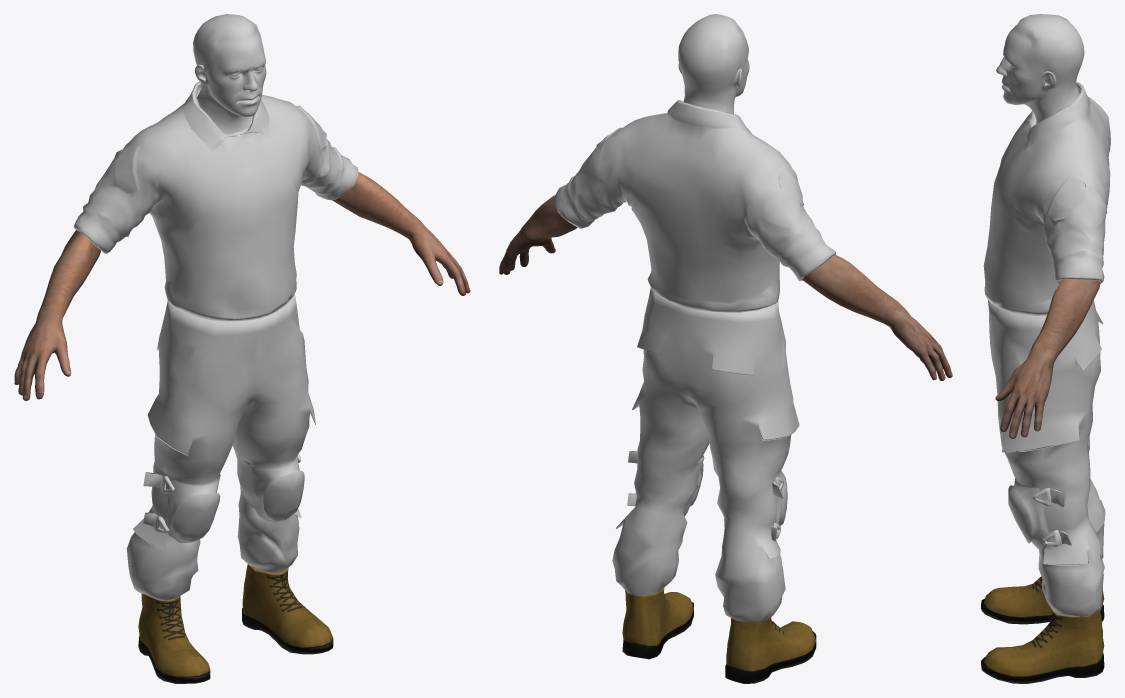
The model's file is uploads_files_2621229_Demo_mesh.fbx.
3 renders of one model, left to right at view 1: azimuth 30°, elevation 25°; view 2: azimuth 150°, elevation 25°; view 3: azimuth 270°, elevation 25°, orthographic.
Parts seen in each view (by area): view 1: Pants1, Shirt1, Hands1, Boots1, Head1; view 2: Pants1, Shirt1, Boots1, Hands1, Head1; view 3: Pants1, Shirt1, Boots1, Head1, Hands1.
Part boxes in pixels (<box>): Pants1: <box>126,294,315,599</box>; Shirt1: <box>74,81,358,321</box>; Hands1: <box>14,172,470,400</box>; Boots1: <box>138,564,333,683</box>; Head1: <box>193,14,266,133</box>; Pants1: <box>612,287,799,621</box>; Shirt1: <box>554,100,836,312</box>; Boots1: <box>622,587,816,683</box>; Hands1: <box>499,195,952,380</box>; Head1: <box>678,14,749,113</box>; Pants1: <box>988,300,1105,616</box>; Shirt1: <box>983,82,1110,315</box>; Boots1: <box>981,576,1104,683</box>; Head1: <box>996,14,1084,123</box>; Hands1: <box>995,279,1100,438</box>.
Bounding box in the file's own units: 139 × 188 × 35.41.
